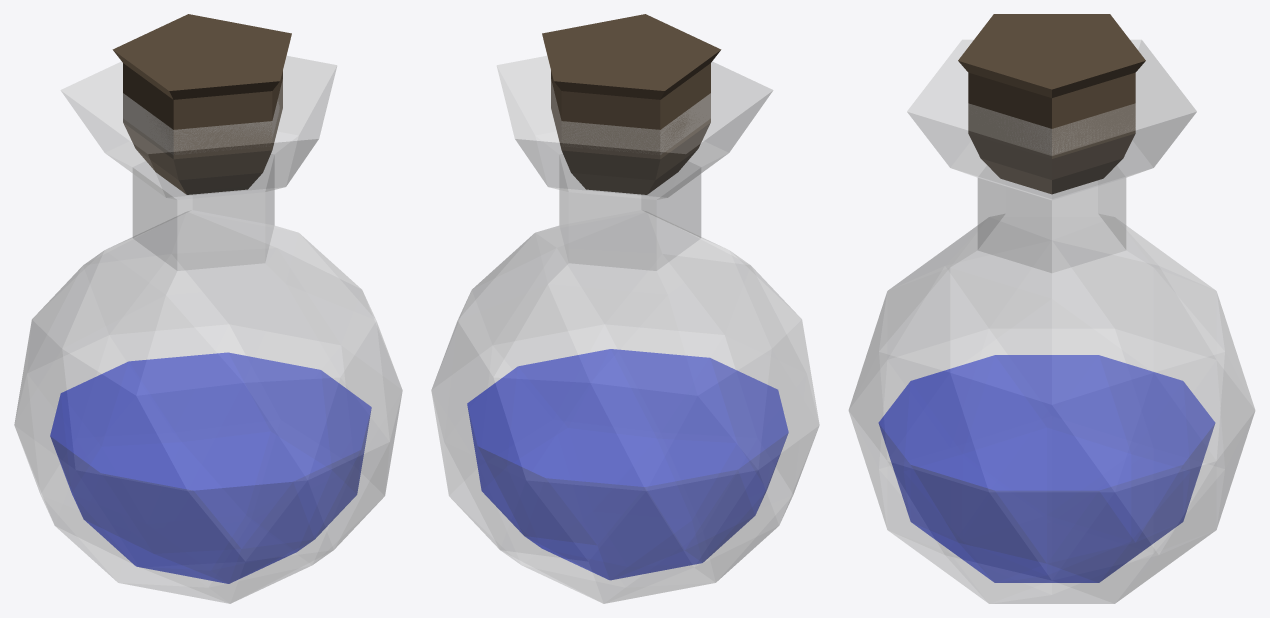
File: BluePotion_M.fbx
3 views of the same model, side by side, from view 1: azimuth 30°, elevation 25°; view 2: azimuth 150°, elevation 25°; view 3: azimuth 270°, elevation 25° (orthographic). The views are drawn at different scales.
Visible parts, largest first — view 1: PotionBottle, Potion, Coke; view 2: PotionBottle, Potion, Coke; view 3: PotionBottle, Potion, Coke.
Boxes of the visible parts, x1,y1,x2,y2 form: PotionBottle: [14, 56, 402, 603]; Potion: [50, 352, 371, 583]; Coke: [112, 14, 291, 194]; PotionBottle: [431, 56, 819, 603]; Potion: [467, 349, 788, 580]; Coke: [542, 14, 721, 194]; PotionBottle: [848, 39, 1255, 603]; Potion: [878, 355, 1215, 582]; Coke: [958, 14, 1145, 194].
Bounding box in the file's own units: 190 × 297 × 200.
